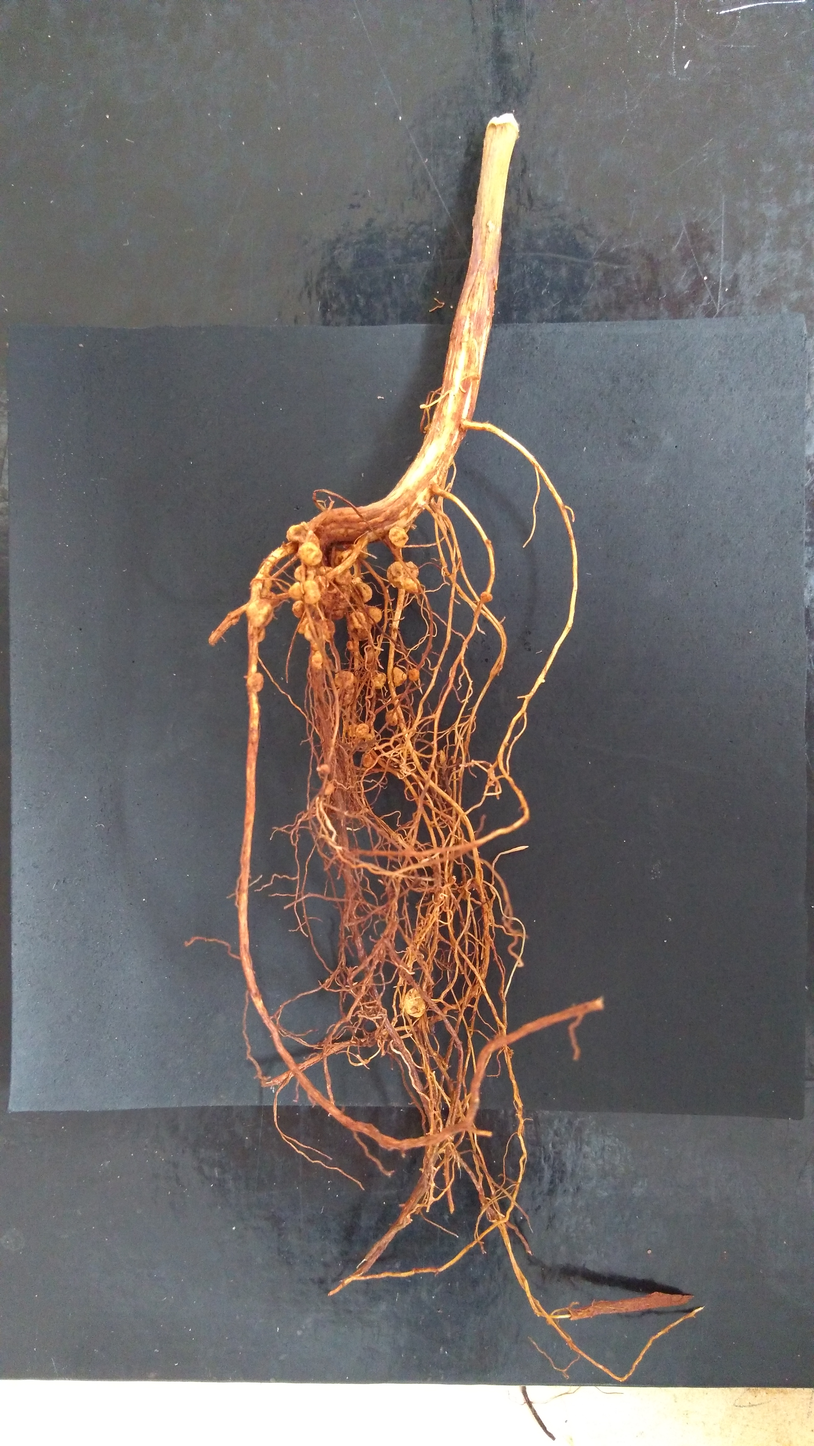nodule: (318, 584, 351, 620), (387, 561, 420, 594), (286, 522, 319, 548), (328, 547, 351, 584), (246, 599, 274, 627), (347, 611, 372, 641), (404, 987, 425, 1017), (298, 542, 322, 565), (316, 618, 336, 642), (303, 580, 321, 605), (389, 526, 409, 548), (304, 622, 325, 642), (351, 583, 372, 603), (336, 686, 355, 706), (294, 565, 316, 581), (341, 705, 359, 724), (247, 673, 263, 693), (335, 671, 353, 688), (392, 666, 406, 687), (366, 606, 382, 624), (288, 582, 303, 601), (349, 723, 369, 737), (262, 591, 279, 607), (371, 672, 386, 689), (297, 617, 312, 634), (319, 566, 334, 582), (351, 544, 368, 558), (261, 577, 272, 598), (311, 650, 323, 669), (385, 709, 398, 726), (341, 549, 352, 569), (353, 738, 368, 752), (313, 576, 329, 589), (292, 601, 304, 618), (323, 780, 335, 796), (361, 753, 372, 768), (346, 640, 359, 652), (316, 764, 330, 775), (365, 733, 376, 747), (364, 650, 375, 664), (311, 640, 326, 650), (480, 591, 492, 603), (257, 627, 266, 643), (408, 668, 419, 681), (436, 750, 446, 764), (231, 614, 240, 625), (486, 539, 491, 545), (504, 742, 508, 746)
